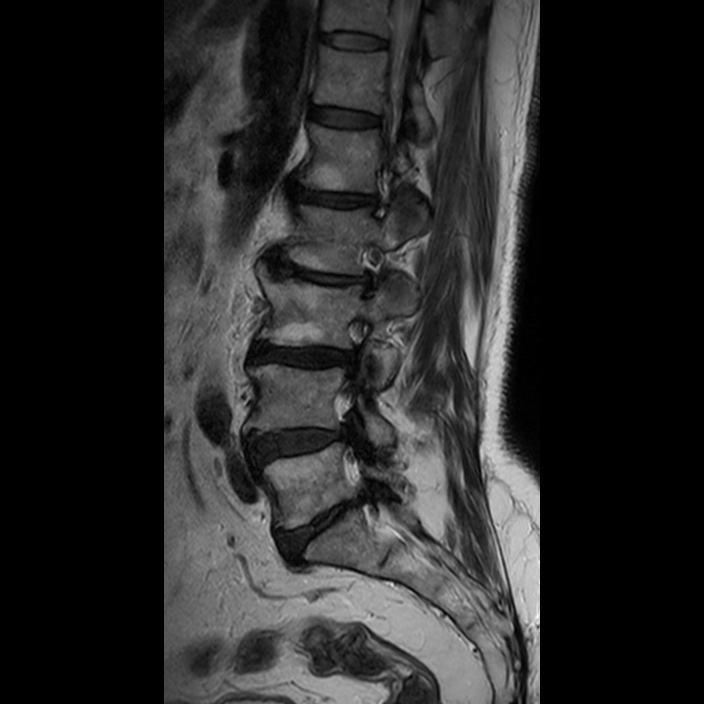LFS2: (344, 230, 404, 302)
